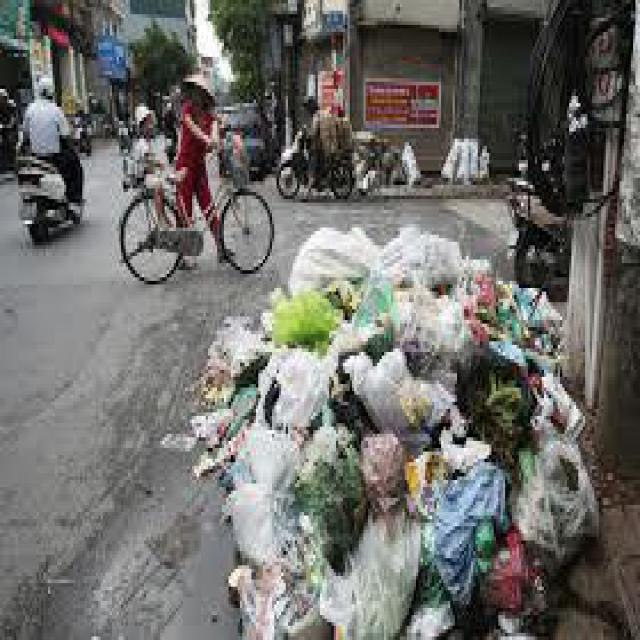garbage: (222, 313, 571, 636), (308, 224, 519, 327)
